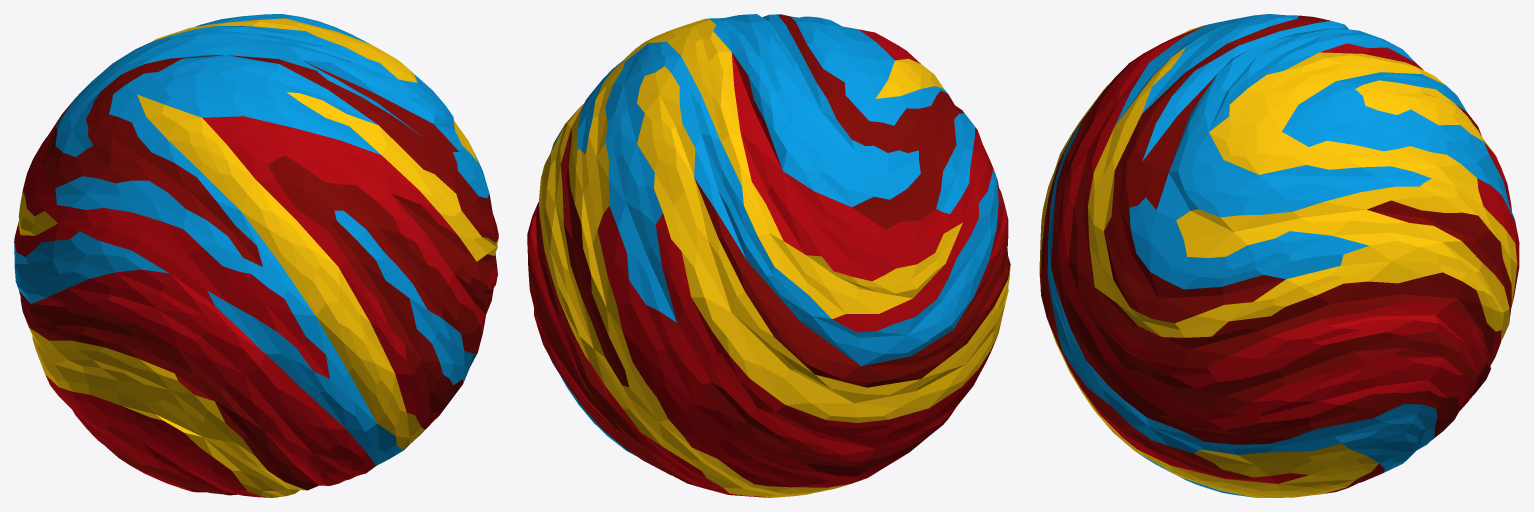
File: planet4.glb
The picture shows the model from 3 angles, left to right: view 1: azimuth 30°, elevation 25°; view 2: azimuth 150°, elevation 25°; view 3: azimuth 270°, elevation 25°; orthographic projection.
Visible parts, largest first — view 1: Icosphere; view 2: Icosphere; view 3: Icosphere.
Boxes of the visible parts, x1,y1,x2,y2 form: Icosphere: [14, 14, 498, 497]; Icosphere: [527, 14, 1010, 497]; Icosphere: [1039, 14, 1519, 497].
Size of the model in its own units: 1.89 by 1.89 by 1.9.
